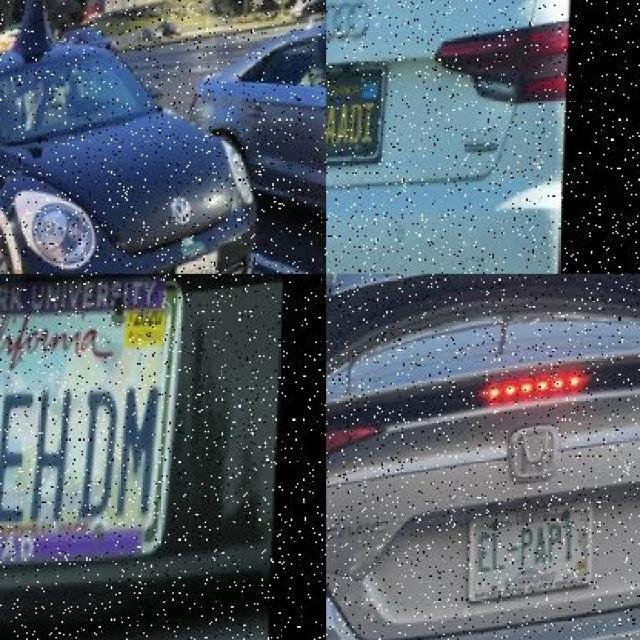LicensePlate: (0, 274, 174, 582), (471, 507, 596, 606), (326, 67, 388, 176)
